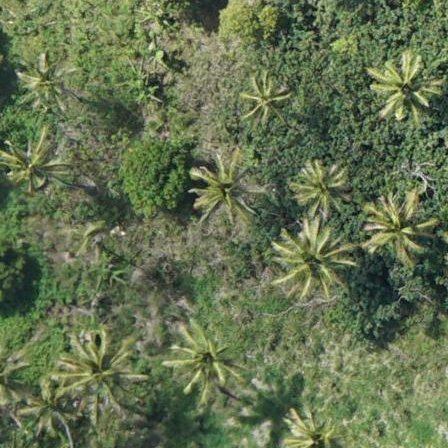palm_tree: (53, 332, 134, 408), (271, 221, 345, 296), (187, 152, 258, 224), (1, 129, 68, 200), (168, 325, 239, 392), (365, 53, 437, 119), (365, 193, 430, 257), (15, 56, 75, 112), (291, 158, 349, 213), (237, 74, 285, 122)
